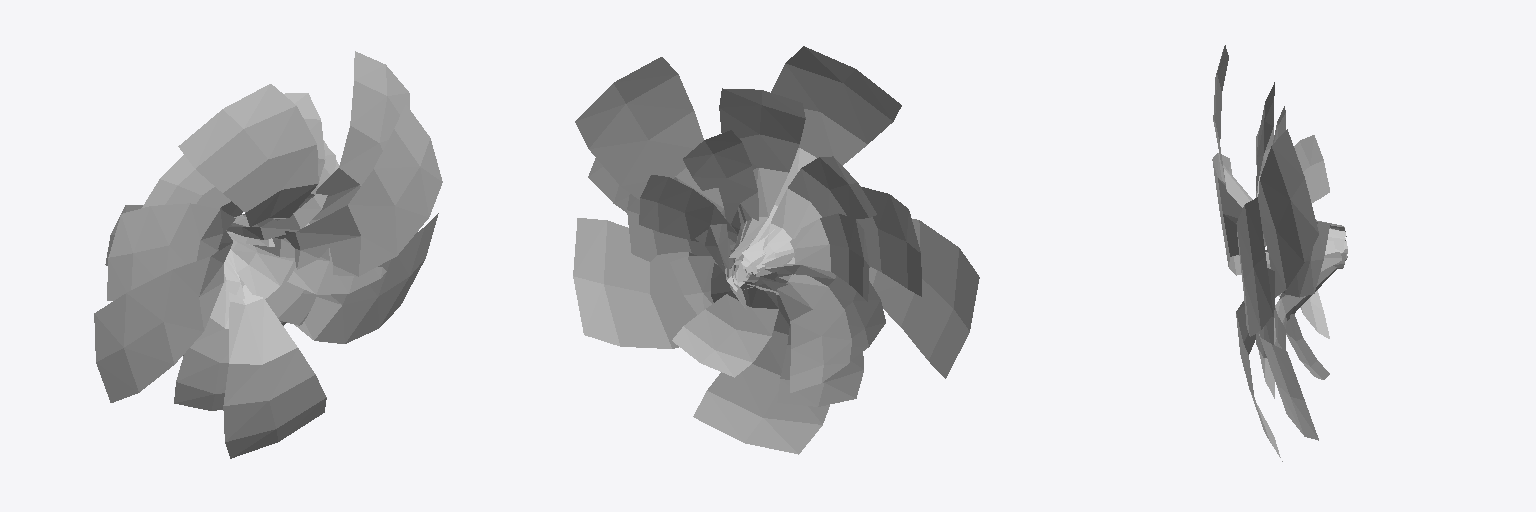
File: bush.obj
3 renders of one model, left to right at view 1: azimuth 30°, elevation 25°; view 2: azimuth 150°, elevation 25°; view 3: azimuth 270°, elevation 25°, orthographic.
Visible parts, largest first — view 1: obj1; view 2: obj1; view 3: obj1.
Part boxes in pixels (bbox=[...]): obj1: bbox=[94, 51, 442, 458]; obj1: bbox=[573, 46, 979, 454]; obj1: bbox=[1212, 45, 1347, 461].
Bounding box in the file's own units: 4.13 × 4.09 × 1.3.